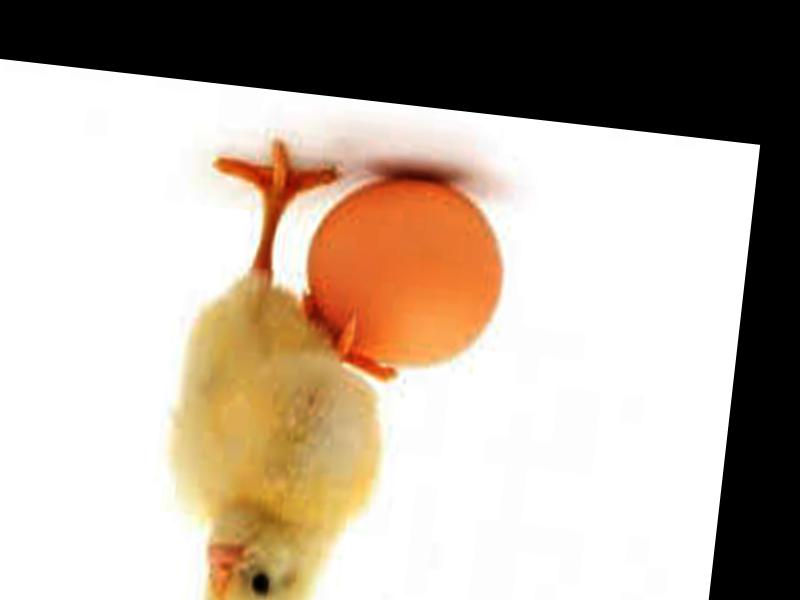Eggs: (292, 168, 514, 385)
